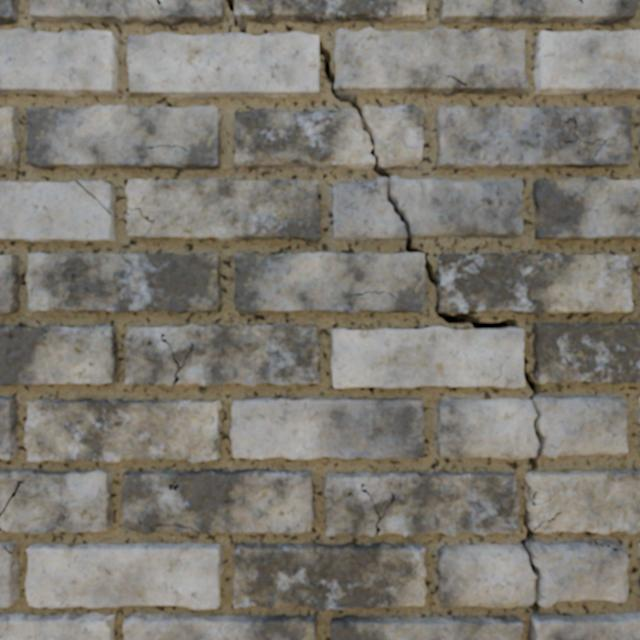broken_brick: (333, 175, 523, 239), (234, 107, 374, 169), (528, 539, 629, 607), (438, 543, 535, 607), (437, 398, 538, 459), (533, 395, 627, 458), (363, 106, 424, 167)
crack: (234, 186, 639, 639), (127, 0, 528, 178), (232, 541, 426, 612), (25, 542, 222, 610), (323, 471, 520, 537), (24, 398, 221, 463), (26, 105, 222, 170), (435, 106, 632, 170), (121, 469, 314, 534), (126, 178, 321, 241), (25, 251, 222, 313), (124, 324, 319, 386), (230, 397, 424, 459), (0, 28, 118, 96), (0, 469, 112, 534), (0, 325, 117, 386), (0, 180, 115, 242), (533, 30, 639, 95), (533, 177, 639, 239), (122, 613, 316, 639), (30, 0, 223, 26), (439, 0, 637, 25), (330, 615, 523, 639), (0, 612, 115, 639), (0, 107, 21, 170), (0, 541, 19, 607), (0, 255, 20, 315), (0, 397, 18, 459), (594, 541, 629, 558), (0, 0, 18, 24), (636, 397, 639, 453), (638, 542, 639, 562), (638, 577, 639, 587)
